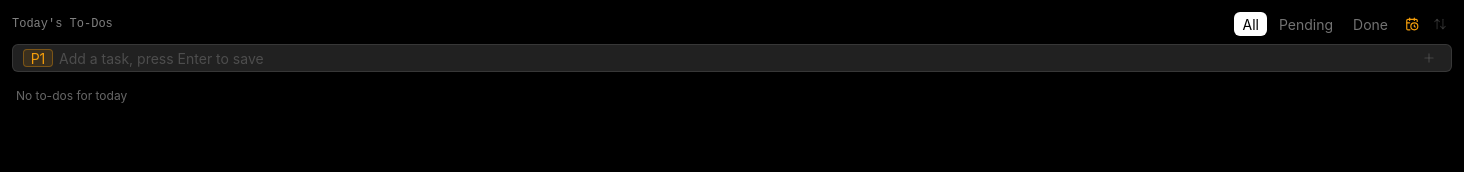
Test: HeaderSchedulePanel › 点击顺延按钮把昨日未完成项移动到今天并刷新列表
What coordinates should you click on to do the following:
click the button named "Move to Today"
I would click on:
 (1412, 24)
Its box is [1400, 12, 1424, 36].
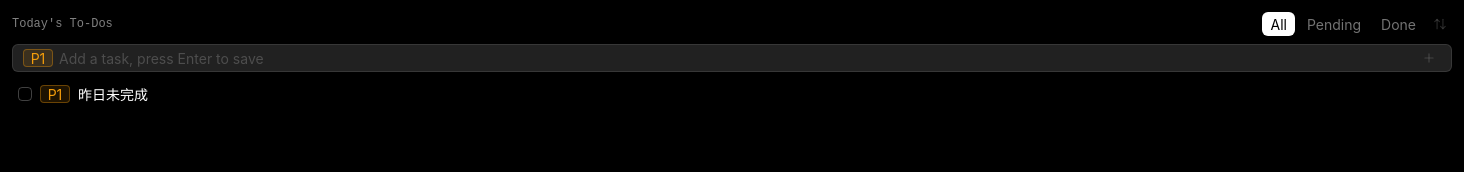
Now the button "昨日未完成" is shown, box [78, 84, 1386, 104]
